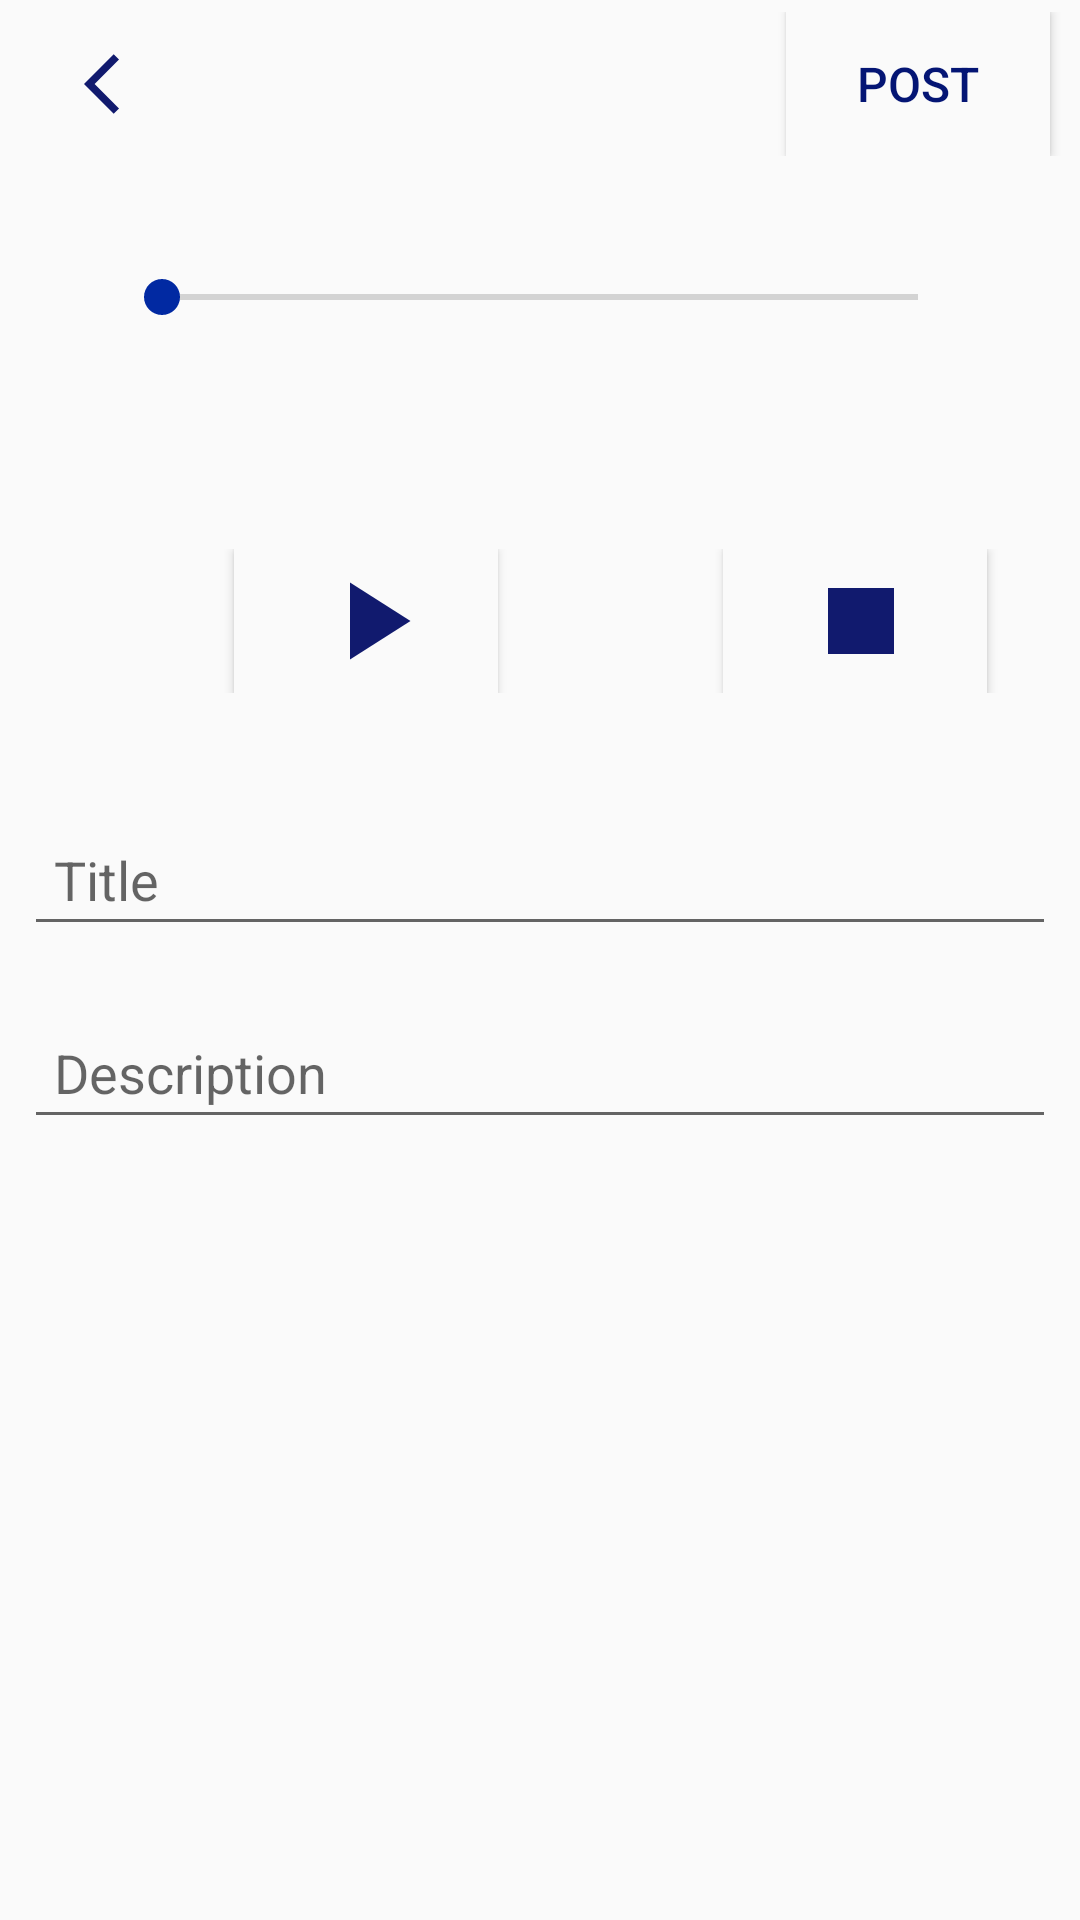

Where icons sit on this 1080×1920 app screen, as (x1, y1, x2, y2):
back: (84, 54, 119, 114)
